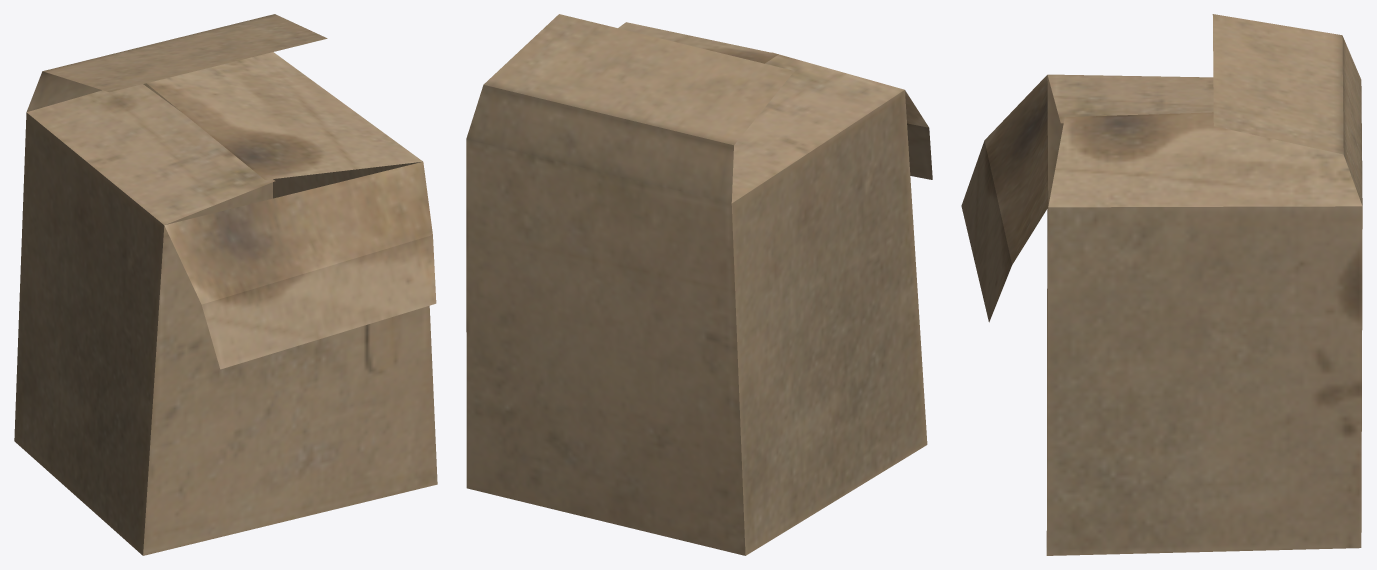
The model's file is CardboardBox_T03.FBX.
The picture shows the model from 3 angles, left to right: view 1: azimuth 30°, elevation 25°; view 2: azimuth 150°, elevation 25°; view 3: azimuth 270°, elevation 25°; orthographic projection. The views are drawn at different scales.
Visible parts, largest first — view 1: CardboardBox_T03; view 2: CardboardBox_T03; view 3: CardboardBox_T03.
Boxes of the visible parts, x1,y1,x2,y2 form: CardboardBox_T03: [14, 14, 437, 555]; CardboardBox_T03: [466, 14, 932, 555]; CardboardBox_T03: [961, 14, 1362, 555].
Bounding box in the file's own units: 46.05 × 59.1 × 51.84.
